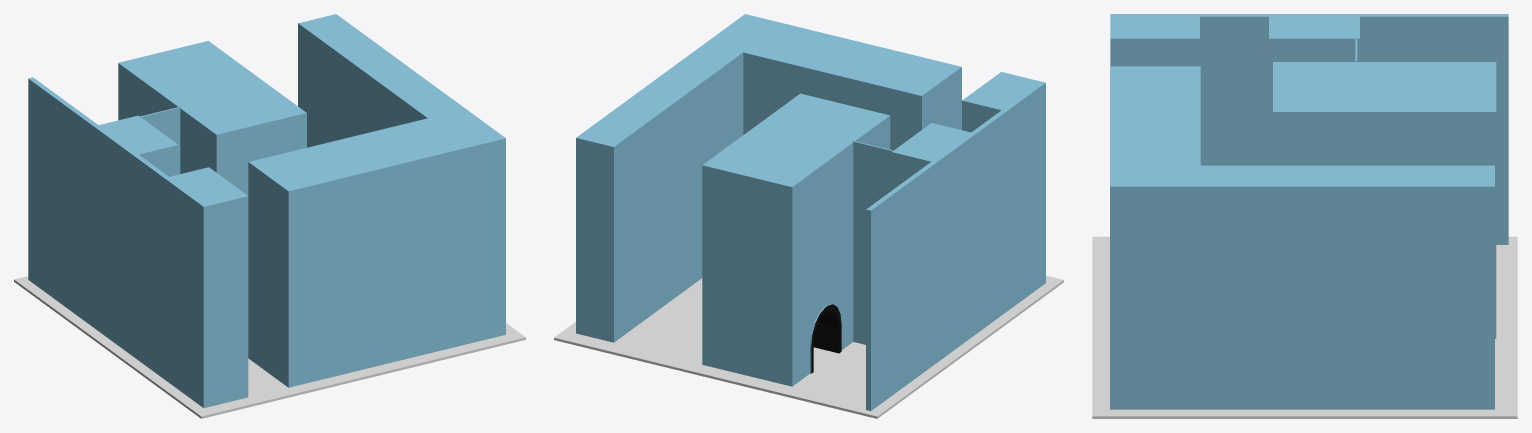
The model's file is Stage_01.fbx.
3 views of the same model, side by side, from view 1: azimuth 30°, elevation 25°; view 2: azimuth 150°, elevation 25°; view 3: azimuth 270°, elevation 25° (orthographic). The views are drawn at different scales.
Visible parts, largest first — view 1: Cube.005, Cube.002, Cube.004, Cube.001, Cube.003; view 2: Cube.005, Cube.002, Cube.004, Cube.001, Cube.003, Cube; view 3: Cube.005, Cube.002, Cube.004, Cube.001.
Part boxes in pixels (x1,y1,x2,y2): Cube.005: (248,14,505,387); Cube.002: (28,77,248,407); Cube.004: (118,41,306,195); Cube.001: (14,276,525,418); Cube.003: (140,106,180,174); Cube.005: (576,14,961,342); Cube.002: (866,72,1045,410); Cube.004: (702,93,890,386); Cube.001: (554,275,1063,418); Cube.003: (852,141,893,344); Cube: (810,304,841,373); Cube.005: (1110,66,1494,409); Cube.002: (1110,14,1508,244); Cube.004: (1273,62,1496,338); Cube.001: (1092,236,1517,418).
Size of the model in its own units: 3950 by 2404 by 3950.
